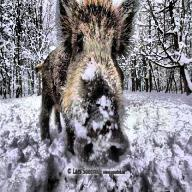boar: (30, 0, 152, 171)
